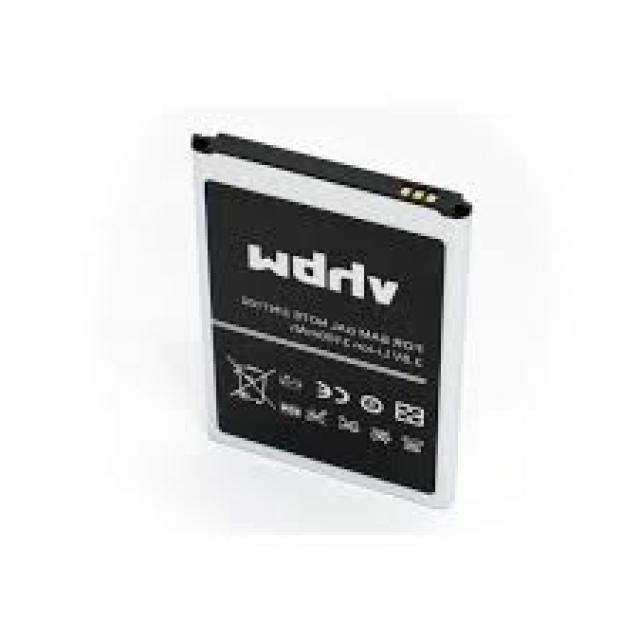battery: (192, 127, 470, 500)
